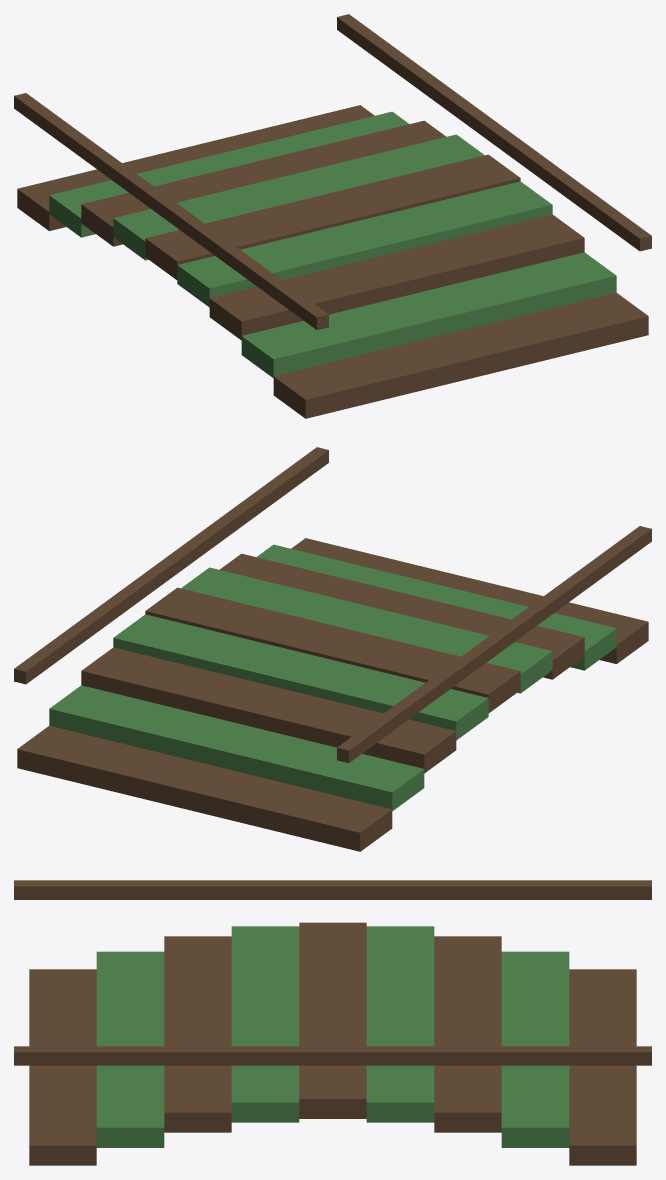
File: moss_log_bridge.glb
3 renders of one model, top to bottom at view 1: azimuth 30°, elevation 25°; view 2: azimuth 150°, elevation 25°; view 3: azimuth 270°, elevation 25°, orthographic. The views are drawn at different scales.
Parts seen in each view (by area): view 1: plank_8, plank_7, plank_6, plank_5, plank_4, plank_3, plank_2, rail_-1, rail_1, plank_1, plank_0; view 2: plank_0, plank_1, plank_2, plank_3, plank_4, plank_5, plank_6, rail_-1, rail_1, plank_7, plank_8; view 3: rail_-1, rail_1, plank_3, plank_5, plank_1, plank_7, plank_0, plank_2, plank_4, plank_6, plank_8.
Part boxes in pixels (left/top/right/bottom): plank_8: left=273, top=292, right=648, bottom=418; plank_7: left=241, top=252, right=616, bottom=377; plank_6: left=209, top=214, right=584, bottom=340; plank_5: left=177, top=181, right=552, bottom=307; plank_4: left=145, top=154, right=520, bottom=279; plank_3: left=113, top=134, right=484, bottom=260; plank_2: left=81, top=120, right=446, bottom=246; rail_-1: left=14, top=93, right=328, bottom=330; rail_1: left=337, top=14, right=651, bottom=251; plank_1: left=49, top=111, right=409, bottom=237; plank_0: left=17, top=105, right=374, bottom=230; plank_0: left=17, top=725, right=392, bottom=851; plank_1: left=49, top=685, right=424, bottom=810; plank_2: left=81, top=647, right=456, bottom=773; plank_3: left=113, top=614, right=488, bottom=740; plank_4: left=145, top=587, right=520, bottom=712; plank_5: left=181, top=567, right=552, bottom=693; plank_6: left=219, top=553, right=584, bottom=679; rail_-1: left=337, top=526, right=651, bottom=763; rail_1: left=14, top=447, right=328, bottom=684; plank_7: left=256, top=544, right=616, bottom=670; plank_8: left=291, top=538, right=648, bottom=663; rail_-1: left=14, top=880, right=651, bottom=899; rail_1: left=14, top=1046, right=651, bottom=1065; plank_3: left=366, top=926, right=434, bottom=1122; plank_5: left=231, top=926, right=299, bottom=1122; plank_1: left=501, top=951, right=569, bottom=1147; plank_7: left=96, top=951, right=164, bottom=1147; plank_0: left=569, top=969, right=636, bottom=1165; plank_2: left=434, top=936, right=501, bottom=1132; plank_4: left=299, top=922, right=366, bottom=1118; plank_6: left=164, top=936, right=231, bottom=1132; plank_8: left=29, top=969, right=96, bottom=1165.
Size of what is drawn, in the model's own units: 3.4 by 1 by 5.2.
